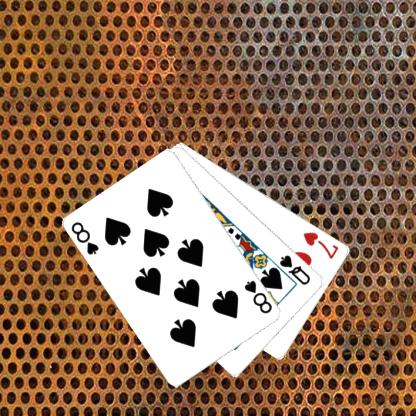7H: (301, 229, 340, 260)
8S: (242, 277, 274, 315), (69, 219, 100, 256)
QS: (277, 252, 312, 286)
